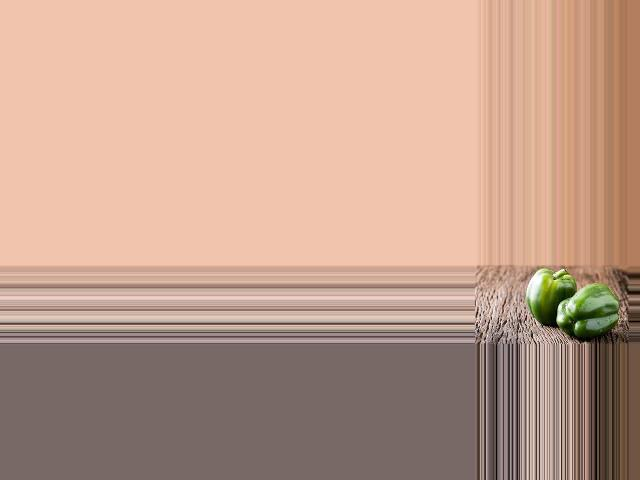bell_pepper: (553, 282, 618, 336)
